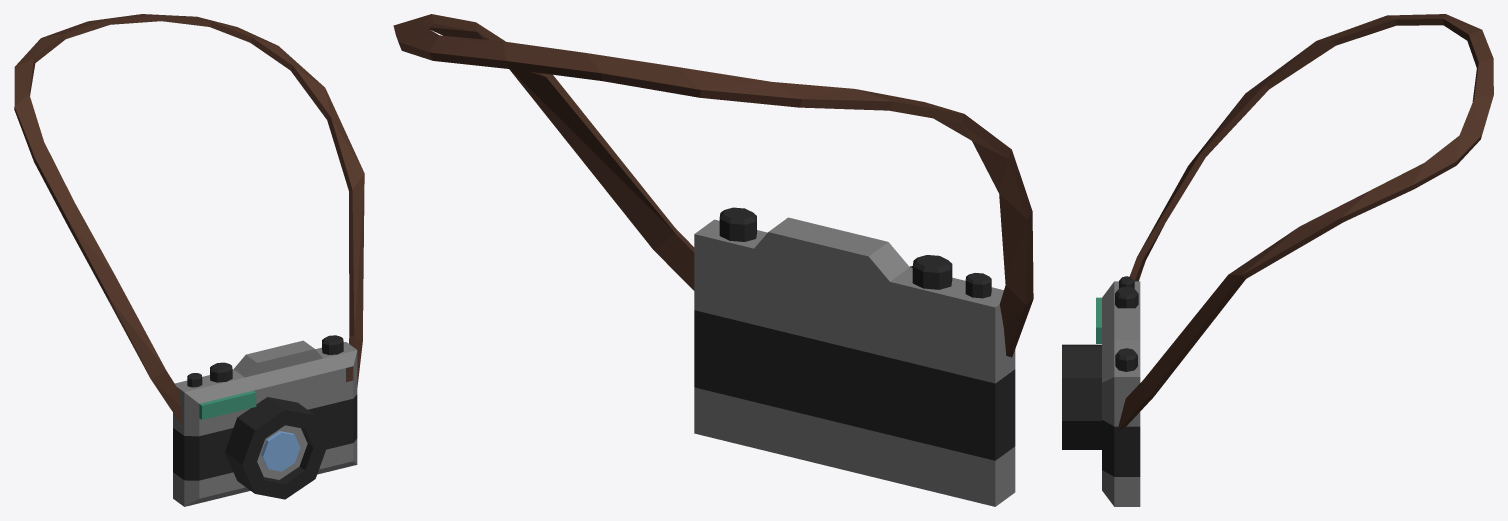
The model's file is TouristGuy_Camera.fbx.
The picture shows the model from 3 angles, left to right: view 1: azimuth 30°, elevation 25°; view 2: azimuth 150°, elevation 25°; view 3: azimuth 270°, elevation 25°; orthographic projection. The views are drawn at different scales.
Parts seen in each view (by area): view 1: TouristGuy_Camera; view 2: TouristGuy_Camera; view 3: TouristGuy_Camera.
Boxes of the visible parts, bbox=[...] form: TouristGuy_Camera: bbox=[14, 14, 364, 506]; TouristGuy_Camera: bbox=[393, 14, 1033, 506]; TouristGuy_Camera: bbox=[1062, 14, 1493, 506].
Bounding box in the file's own units: 19.88 × 22.12 × 21.83.
